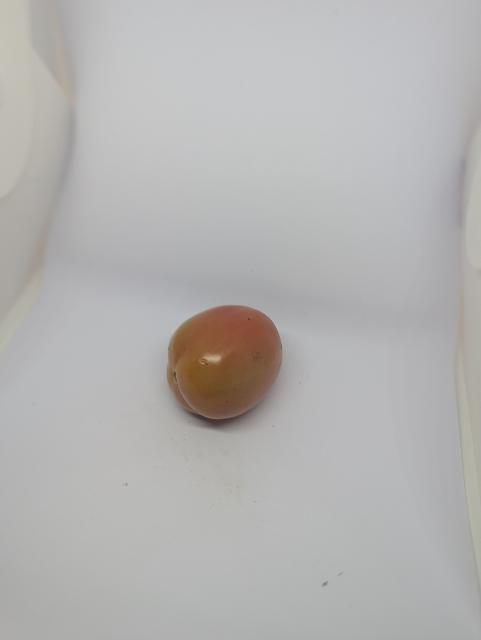turning: (158, 293, 289, 433)
